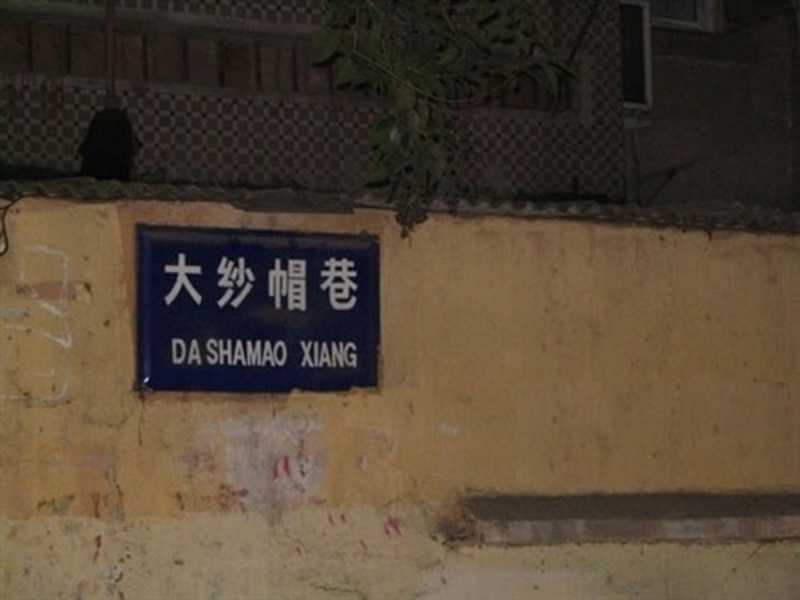text: (177, 252, 192, 311), (193, 252, 208, 311), (209, 252, 224, 311), (225, 252, 240, 311), (241, 252, 256, 311), (257, 252, 272, 311), (273, 252, 288, 311), (289, 252, 304, 311), (305, 252, 320, 311), (321, 252, 336, 311), (337, 252, 352, 311), (164, 252, 176, 311), (353, 252, 362, 311), (273, 340, 289, 367), (305, 341, 320, 369), (321, 341, 336, 369), (337, 341, 352, 369), (177, 340, 192, 367), (209, 340, 224, 367), (225, 340, 240, 367), (241, 340, 256, 367), (257, 340, 272, 367), (193, 340, 202, 367), (300, 341, 304, 369), (353, 341, 357, 369), (172, 340, 176, 367), (205, 340, 208, 367)
